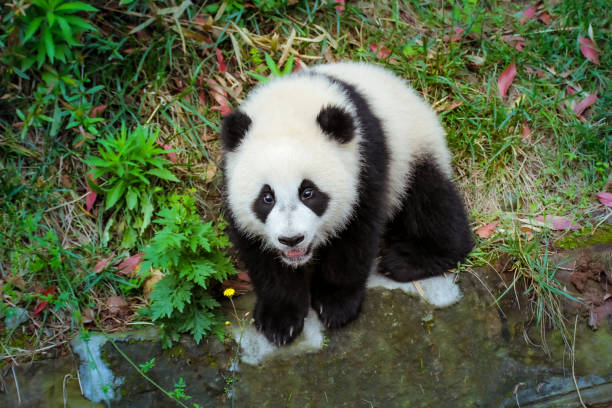panda: (169, 84, 366, 286)
